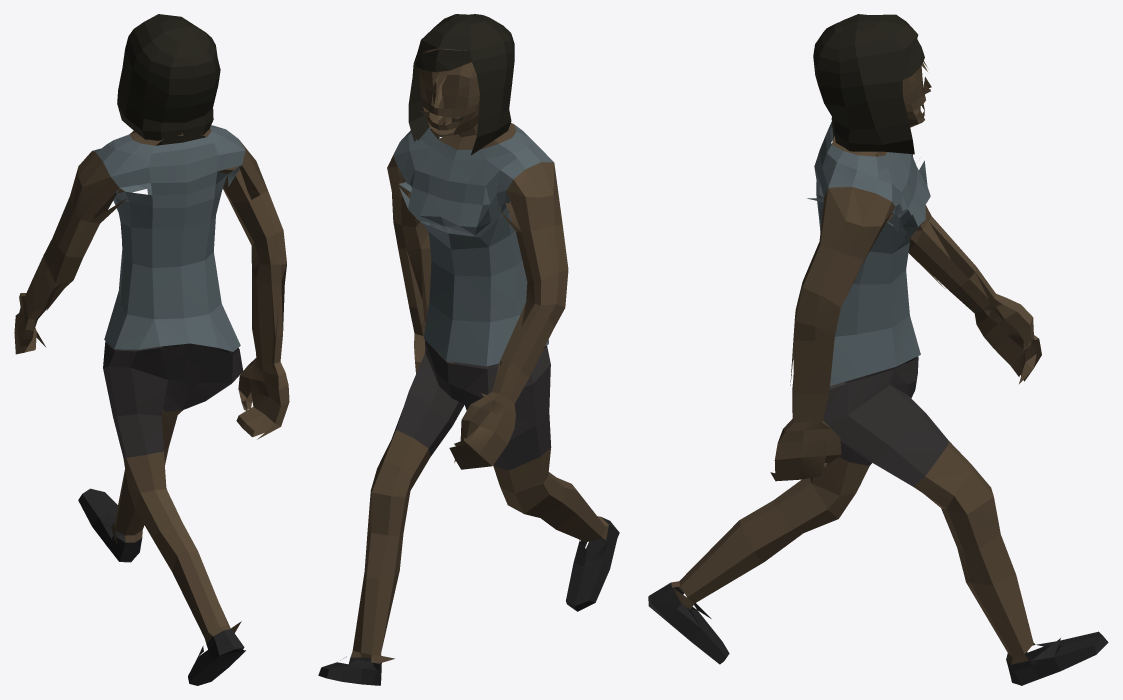
Rendered from person_5_w3.fbx.
3 views of the same model, side by side, from view 1: azimuth 30°, elevation 25°; view 2: azimuth 150°, elevation 25°; view 3: azimuth 270°, elevation 25° (orthographic). The views are drawn at different scales.
Parts seen in each view (by area): view 1: BaseHuman.000; view 2: BaseHuman.000; view 3: BaseHuman.000.
Boxes of the visible parts, <box> form: BaseHuman.000: <box>14,14,289,685</box>; BaseHuman.000: <box>318,14,619,685</box>; BaseHuman.000: <box>648,14,1108,685</box>.
Bounding box in the file's own units: 0.3277 × 1 × 0.6285.
